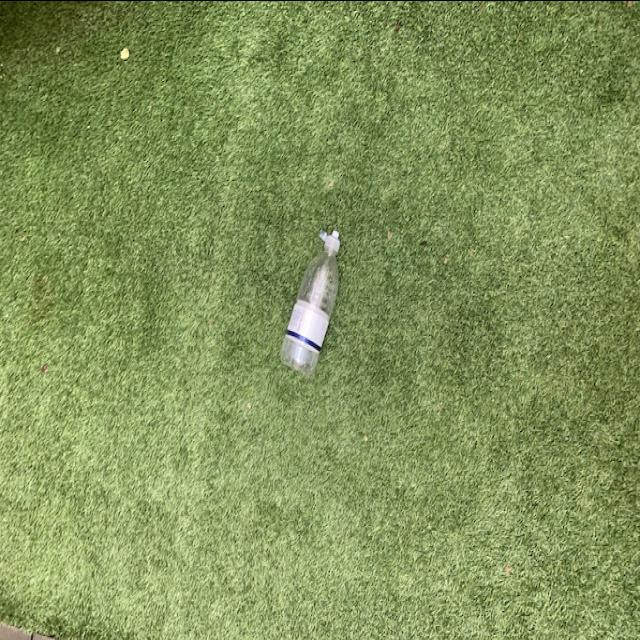litter: (274, 220, 352, 378)
